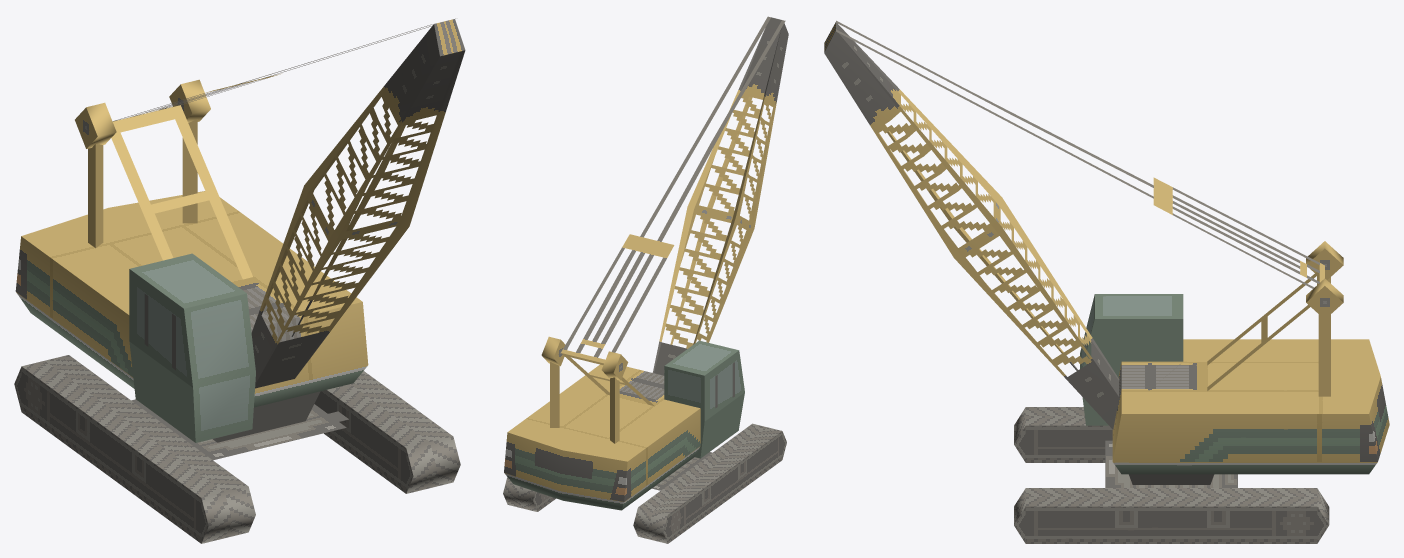
The model's file is 01a5_Crane.glb.
The picture shows the model from 3 angles, left to right: view 1: azimuth 30°, elevation 25°; view 2: azimuth 150°, elevation 25°; view 3: azimuth 270°, elevation 25°; orthographic projection. The views are drawn at different scales.
Parts seen in each view (by area): view 1: part_0; view 2: part_0; view 3: part_0.
Boxes of the visible parts, x1,y1,x2,y2 form: part_0: [14, 18, 465, 543]; part_0: [503, 16, 788, 543]; part_0: [824, 20, 1389, 543].
Size of the model in its own units: 4.32 by 9.46 by 10.36.
Materials: 1 (1 with a texture image).
